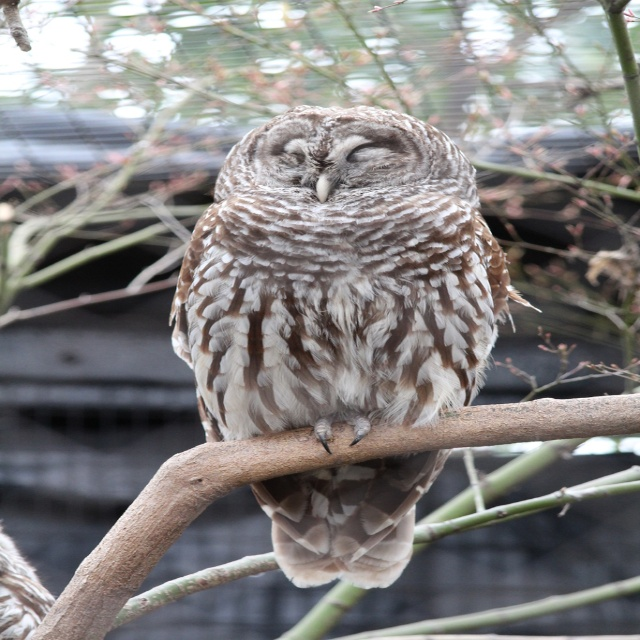Owl: (167, 105, 542, 590)
